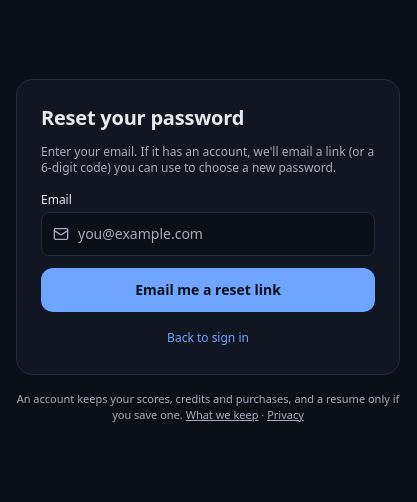
Test case: F. a refused reset has a way out › a refusal no retry can pass (the account changed since the sign-in) says so, offers a new link and support, and never Try again
The width and height of the screenshot is (417, 502).
Expected: the heading "Reset your password" is shown, [41,104,244,130]
Type "member@example.com" into the field labelled "Email" at (208, 234), box [41,212,375,256]
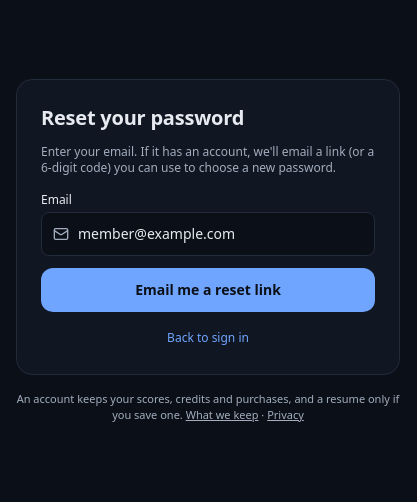
Click the button "Email me a reset link" at (208, 290), box [41,268,375,312]
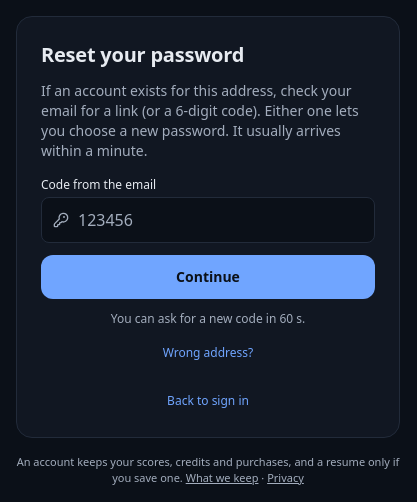
Type "654321" into the field labelled "Code from the email" at (208, 220), box [41,196,375,242]
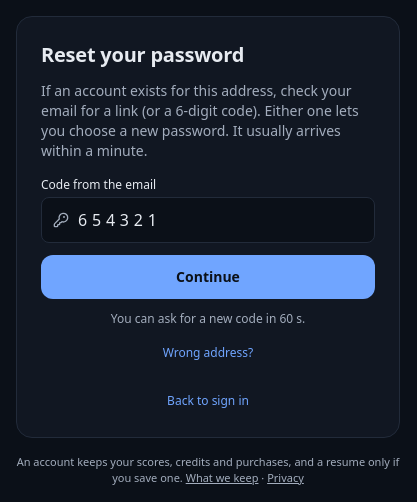
Click the button "Continue" at (208, 276), box [41,254,375,298]
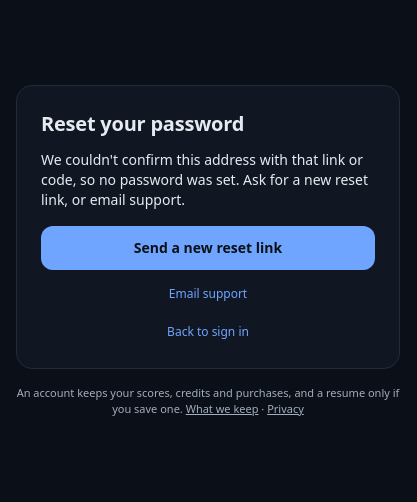
Now the message shows "We couldn't confirm this address with that link or code, so no password was set. Ask for a new reset link, or email support.", box [41,150,368,208]
Now the text labelled "New password" is gone
Click the button "Send a new reset link" at (208, 248), box [41,226,375,270]
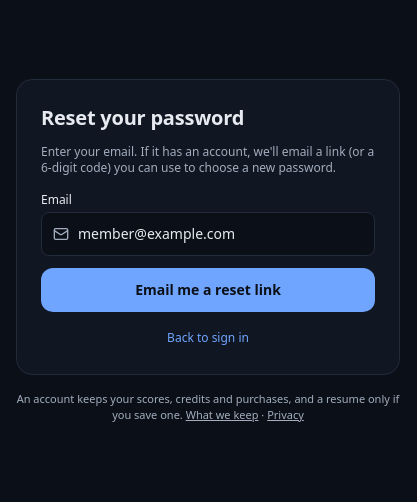
Now the field labelled "Email" holds "member@example.com", box [41,212,375,256]
